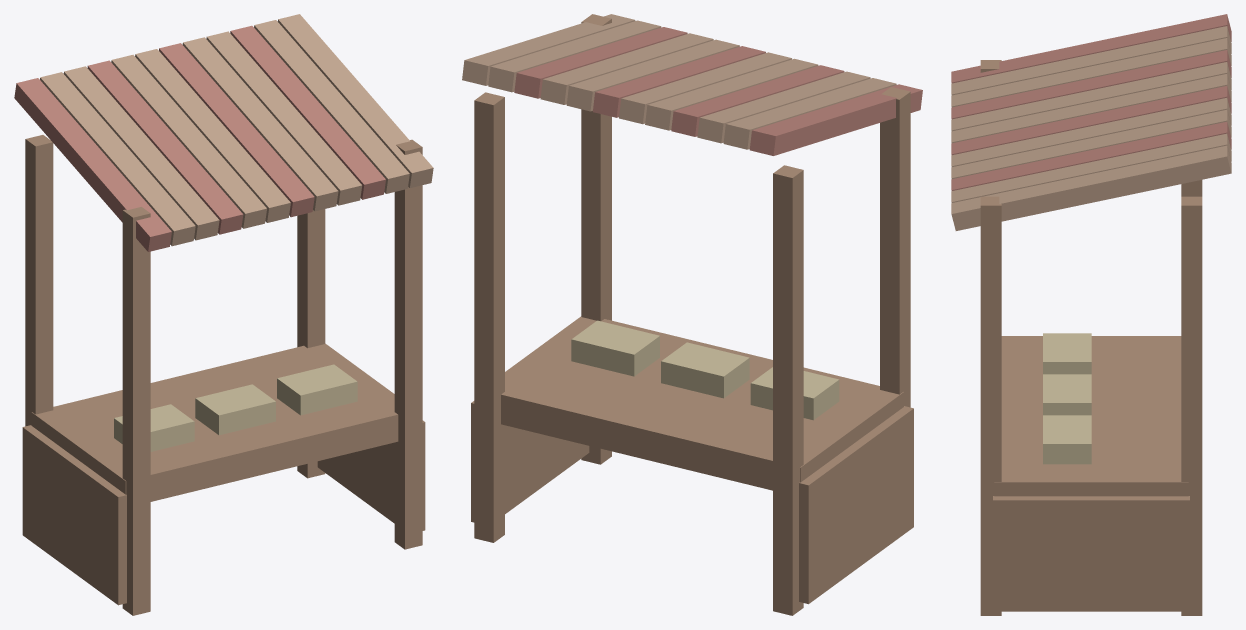
The model's file is covered_market_stall.glb.
3 renders of one model, left to right at view 1: azimuth 30°, elevation 25°; view 2: azimuth 150°, elevation 25°; view 3: azimuth 270°, elevation 25°, orthographic. The views are drawn at different scales.
Visible parts, largest first — view 1: box_4, box_5, box_1, box_3, box_0, box_7, box_14, box_9, box_11, box_15, box_13, box_16 (+10 smaller); view 2: box_4, box_5, box_2, box_0, box_1, box_3, box_7, box_6, box_21, box_20, box_10, box_13 (+10 smaller); view 3: box_4, box_6, box_2, box_3, box_18, box_17, box_8, box_15, box_16, box_11, box_12, box_13 (+7 smaller).
Part boxes in pixels (x1,y1,x2,y2): box_4: (31, 343, 398, 501); box_5: (22, 425, 126, 605); box_1: (122, 207, 150, 615); box_3: (394, 139, 422, 549); box_0: (25, 135, 53, 426); box_7: (14, 78, 171, 251); box_14: (182, 37, 338, 211); box_9: (63, 66, 219, 240); box_11: (111, 54, 266, 228); box_15: (206, 31, 362, 205); box_13: (159, 43, 314, 217); box_16: (230, 25, 385, 199); box_4: (501, 316, 903, 490); box_5: (799, 406, 913, 604); box_2: (474, 92, 504, 542); box_0: (773, 165, 803, 615); box_1: (880, 87, 910, 407); box_3: (581, 14, 611, 464); box_7: (749, 84, 922, 155); box_6: (471, 401, 589, 522); box_21: (571, 320, 659, 376); box_20: (661, 342, 749, 398); box_10: (671, 65, 844, 136); box_13: (592, 46, 765, 117); box_4: (994, 336, 1188, 496); box_6: (993, 496, 1189, 611); box_2: (1181, 196, 1202, 615); box_3: (980, 196, 1001, 615); box_18: (951, 145, 1231, 230); box_17: (951, 133, 1231, 202); box_8: (951, 26, 1231, 95); box_15: (951, 109, 1231, 178); box_16: (951, 121, 1231, 190); box_11: (951, 62, 1231, 131); box_12: (951, 74, 1231, 143); box_13: (951, 86, 1231, 155).
Size of the model in its own units: 2.26 by 3.13 by 1.73.
